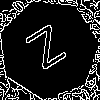Z: (23, 23, 74, 79)
